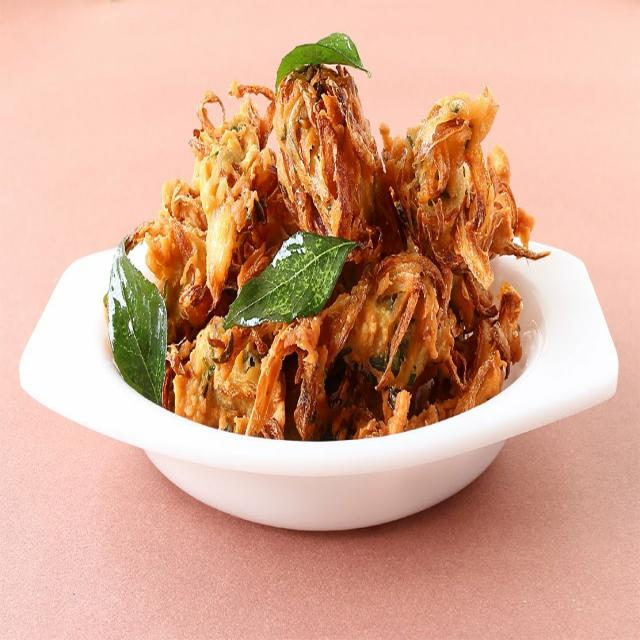Onion Pakora: (99, 27, 551, 441)
